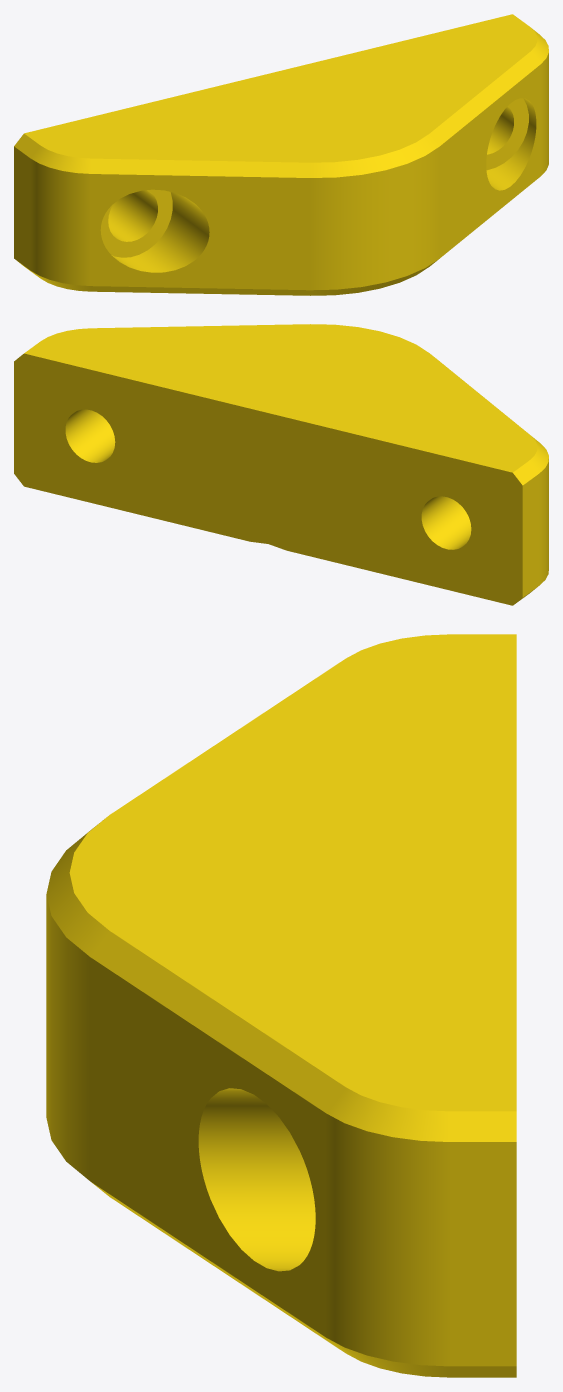
The model's file is A26_S109_cappedBearingBlock.gltf.
3 views of the same model, one above another, from view 1: azimuth 30°, elevation 25°; view 2: azimuth 150°, elevation 25°; view 3: azimuth 270°, elevation 25° (orthographic). The views are drawn at different scales.
Parts seen in each view (by area): view 1: mesh36877, mesh36882, mesh36868, mesh36881, mesh36872, mesh36879, mesh36883, mesh36876, mesh36878, mesh36885, mesh36871, mesh36884 (+8 smaller); view 2: mesh36886, mesh36877, mesh36885, mesh36888, mesh36871, mesh36872, mesh36880, mesh36874; view 3: mesh36877, mesh36881, mesh36865, mesh36887, mesh36863, mesh36868, mesh36876, mesh36875, mesh36878, mesh36873, mesh36862.
Part boxes in pixels (<box>): mesh36877: <box>24,14,537,162</box>; mesh36882: <box>91,174,310,290</box>; mesh36868: <box>310,147,439,290</box>; mesh36881: <box>439,64,540,258</box>; mesh36872: <box>30,159,90,285</box>; mesh36879: <box>91,158,310,177</box>; mesh36883: <box>111,192,209,272</box>; mesh36876: <box>429,51,540,146</box>; mesh36878: <box>310,134,439,177</box>; mesh36885: <box>108,190,157,241</box>; mesh36871: <box>14,146,30,270</box>; mesh36884: <box>100,189,172,257</box>; mesh36886: <box>14,353,522,605</box>; mesh36877: <box>24,324,537,472</box>; mesh36885: <box>421,496,471,549</box>; mesh36888: <box>65,409,115,462</box>; mesh36871: <box>522,474,539,597</box>; mesh36872: <box>539,459,548,585</box>; mesh36880: <box>529,436,548,473</box>; mesh36874: <box>513,460,538,485</box>; mesh36877: <box>69,634,516,1111</box>; mesh36881: <box>90,957,326,1337</box>; mesh36865: <box>326,1113,449,1366</box>; mesh36887: <box>198,1088,315,1271</box>; mesh36863: <box>450,1142,516,1366</box>; mesh36868: <box>46,894,89,1180</box>; mesh36876: <box>90,931,345,1113</box>; mesh36875: <box>326,1087,449,1141</box>; mesh36878: <box>46,820,109,956</box>; mesh36873: <box>450,1111,516,1141</box>; mesh36862: <box>327,1338,449,1377</box>.
Bounding box in the file's own units: 0.0508 × 0.0127 × 0.0203.
